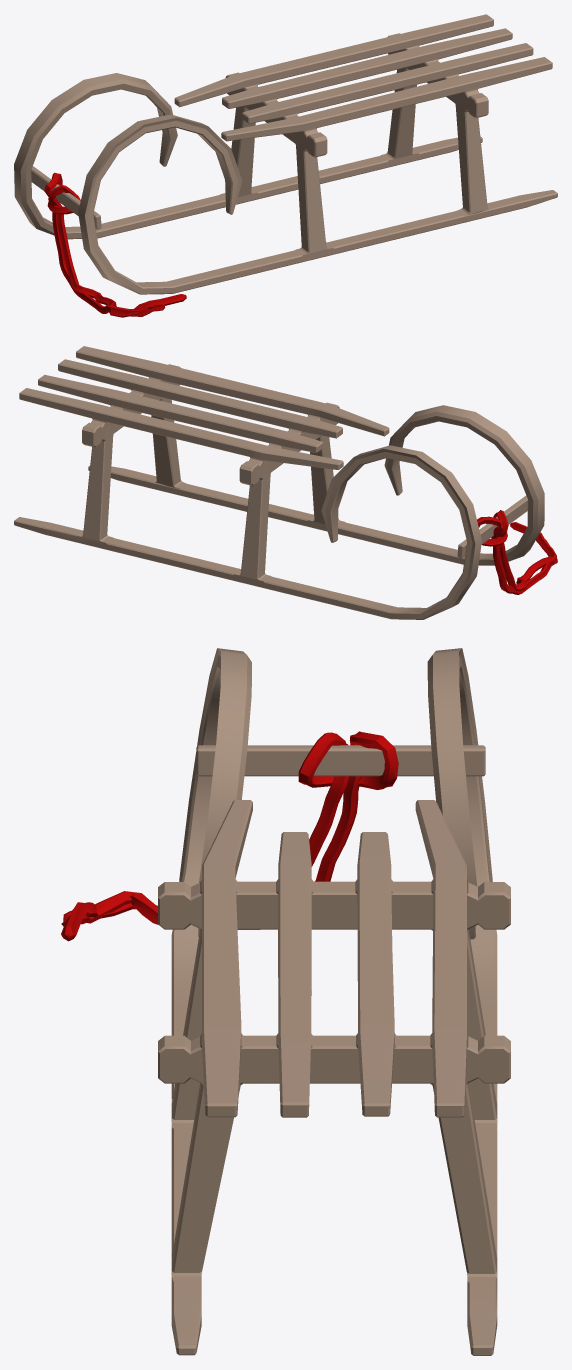
The model's file is sled.fbx.
3 views of the same model, one above another, from view 1: azimuth 30°, elevation 25°; view 2: azimuth 150°, elevation 25°; view 3: azimuth 270°, elevation 25° (orthographic). The views are drawn at different scales.
Visible parts, largest first — view 1: pCube6, pCylinder4; view 2: pCube6, pCylinder4; view 3: pCube6, pCylinder4.
Boxes of the visible parts, x1,y1,x2,y2 form: pCube6: (14,14,557,294); pCylinder4: (44,172,186,317); pCube6: (14,346,544,619); pCylinder4: (477,510,557,594); pCube6: (158,648,510,1355); pCylinder4: (61,731,398,941).
Bounding box in the file's own units: 81.95 × 27.6 × 34.74.
